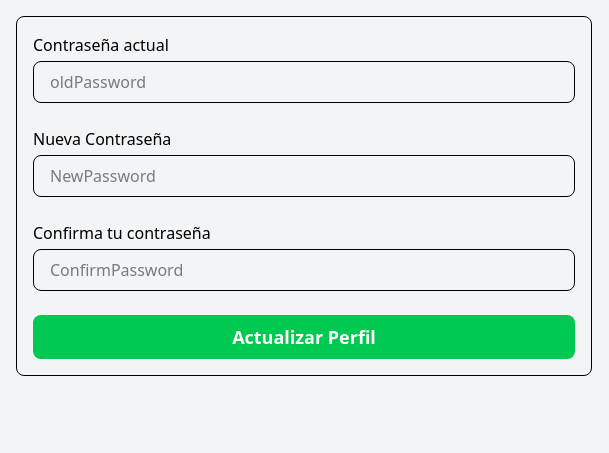
it: FormUpdateInfoUser Test › Validaciones › Debe de mostrar error de validación en el campo de match password
In the password field with placeholder "NewPassword": (304, 176) top-left (33, 155), bottom-right (575, 197), type "newPassword"
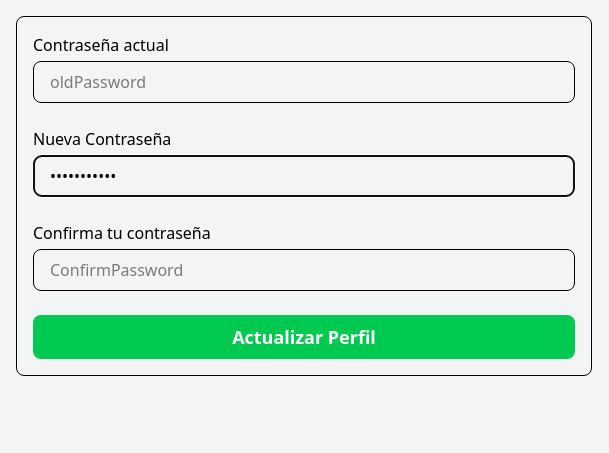
In the password field with placeholder "ConfirmPassword": (304, 270) top-left (33, 249), bottom-right (575, 291), type "newPasswor"
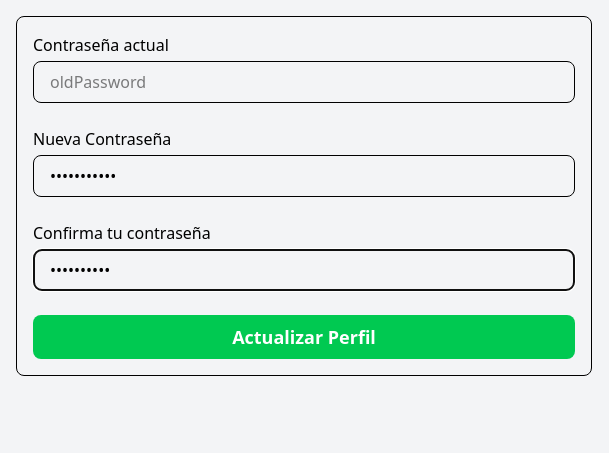
Press Tab
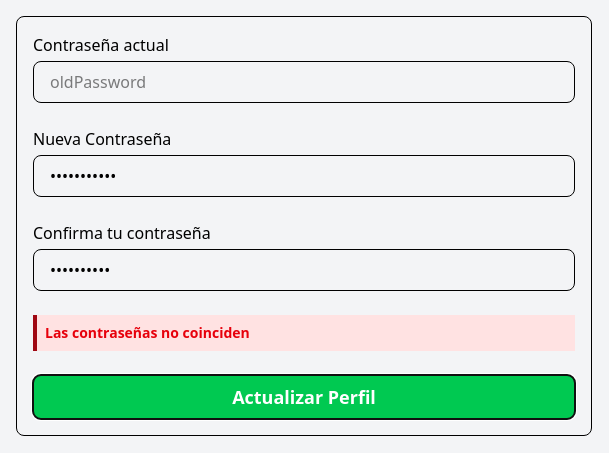
Expected: the text "Las contraseñas no coinciden" is shown, top-left (33, 315), bottom-right (575, 351)
